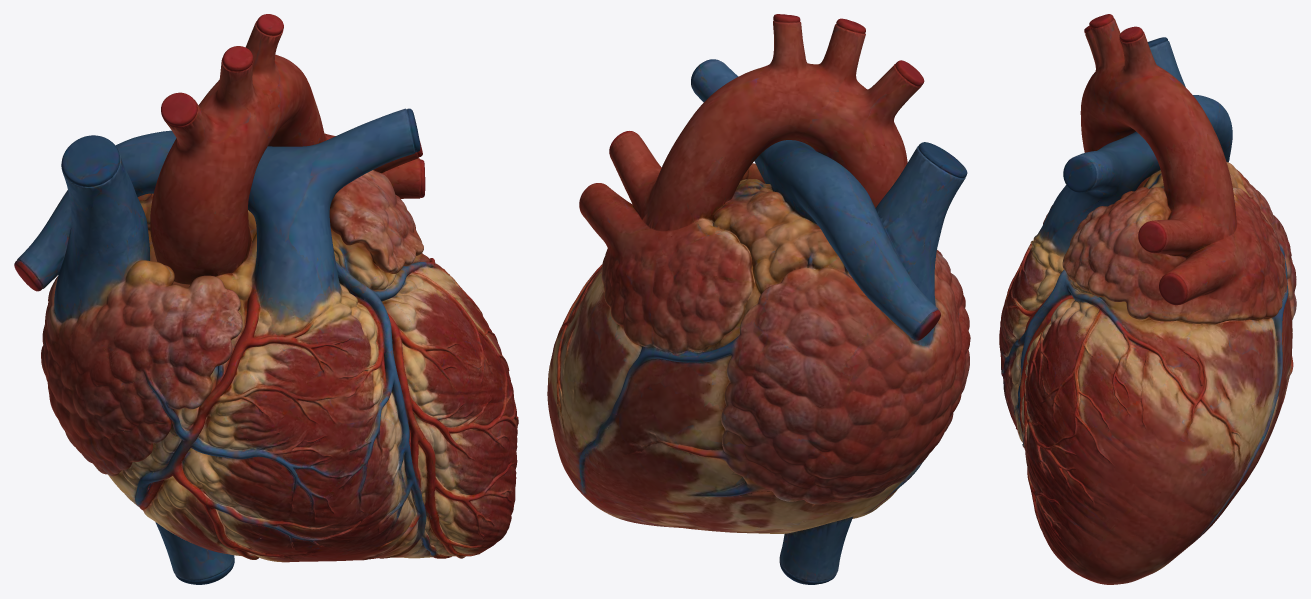
File: corazon.glb
3 views of the same model, side by side, from view 1: azimuth 30°, elevation 25°; view 2: azimuth 150°, elevation 25°; view 3: azimuth 270°, elevation 25° (orthographic). The views are drawn at different scales.
Visible parts, largest first — view 1: human-heart; view 2: human-heart; view 3: human-heart.
Part boxes in pixels (x1,y1,x2,y2): human-heart: [14, 14, 518, 584]; human-heart: [547, 14, 970, 584]; human-heart: [999, 14, 1296, 584].
Size of the model in its own units: 0.0983 by 0.1211 by 0.0687.
Materials: 1 (1 with a texture image).
